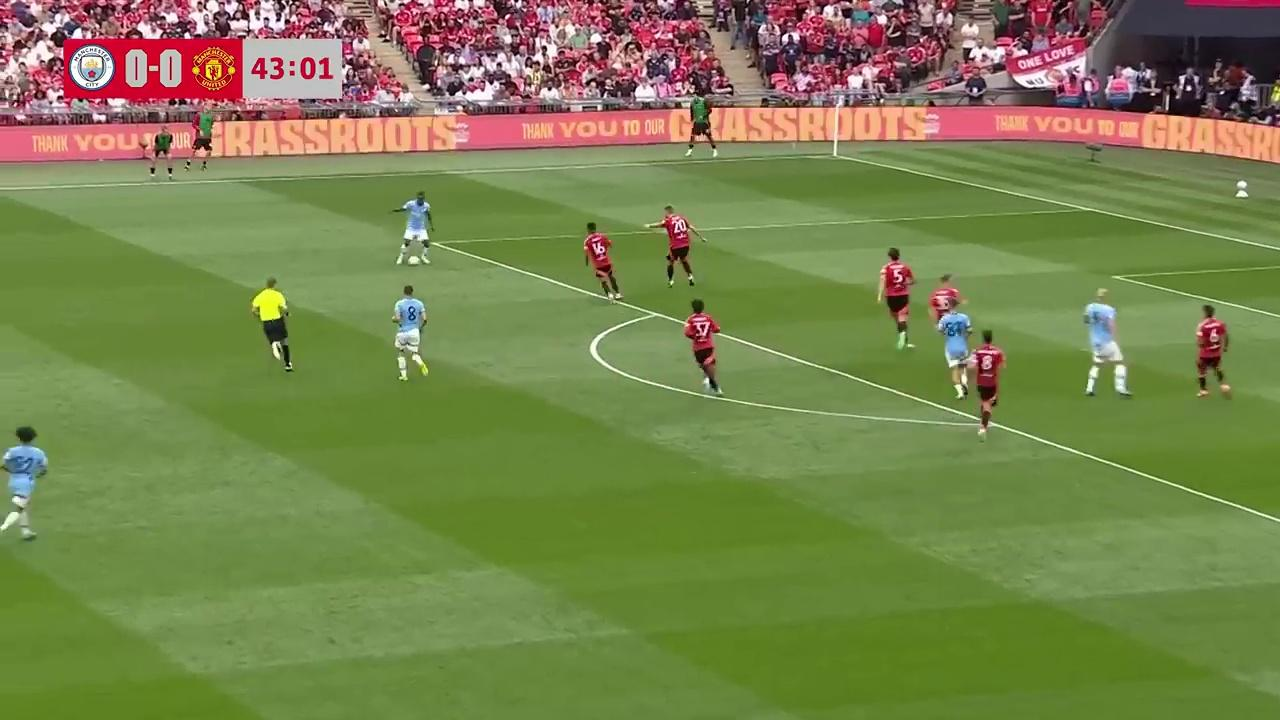player: (1081, 289, 1132, 398), (0, 427, 48, 542), (876, 247, 916, 350), (683, 299, 723, 397), (971, 330, 1006, 440), (655, 207, 703, 287), (391, 284, 429, 382), (1195, 305, 1231, 400), (583, 222, 624, 303), (925, 273, 969, 348), (395, 190, 433, 267), (939, 304, 973, 386)
referee: (249, 277, 294, 372)
